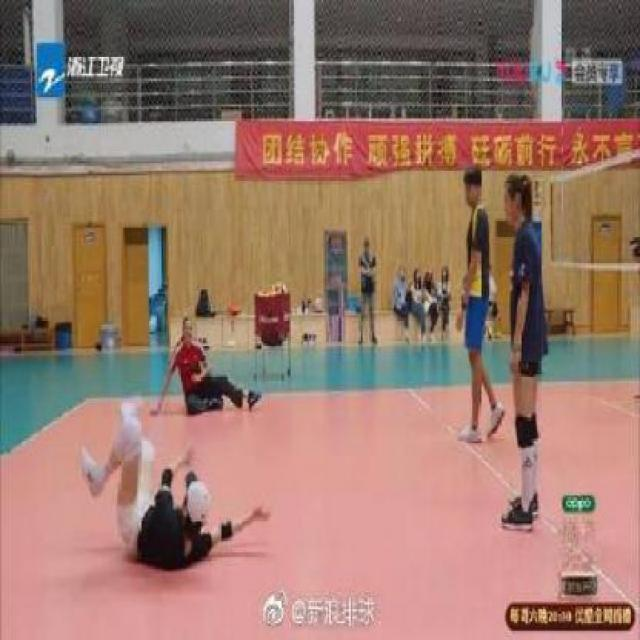fall: (146, 298, 262, 422)
